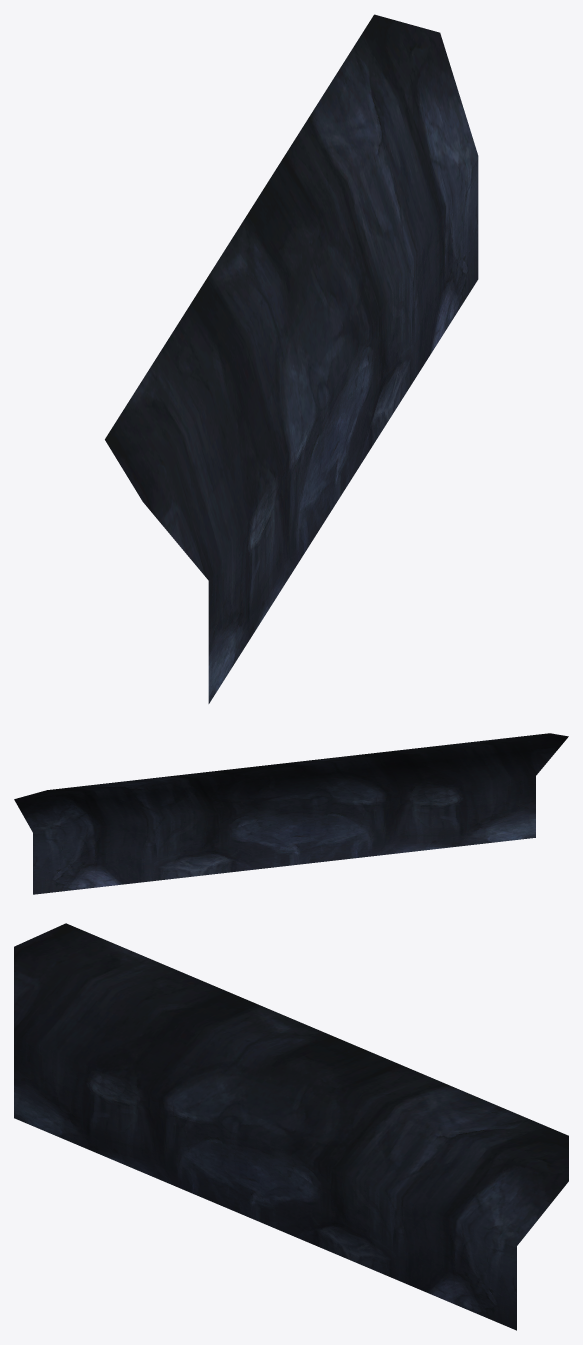
Rendered from mine_cap_diagonal_01.fbx.
3 renders of one model, top to bottom at view 1: azimuth 30°, elevation 25°; view 2: azimuth 150°, elevation 25°; view 3: azimuth 270°, elevation 25°, orthographic. The views are drawn at different scales.
Parts seen in each view (by area): view 1: mine_tileset/fade01_mat; view 2: mine_tileset/fade01_mat; view 3: mine_tileset/fade01_mat.
Boxes of the visible parts, x1,y1,x2,y2 form: mine_tileset/fade01_mat: (105,14,478,703); mine_tileset/fade01_mat: (14,733,568,894); mine_tileset/fade01_mat: (14,923,568,1330).
Bounding box in the file's own units: 4 × 1.38 × 4.
